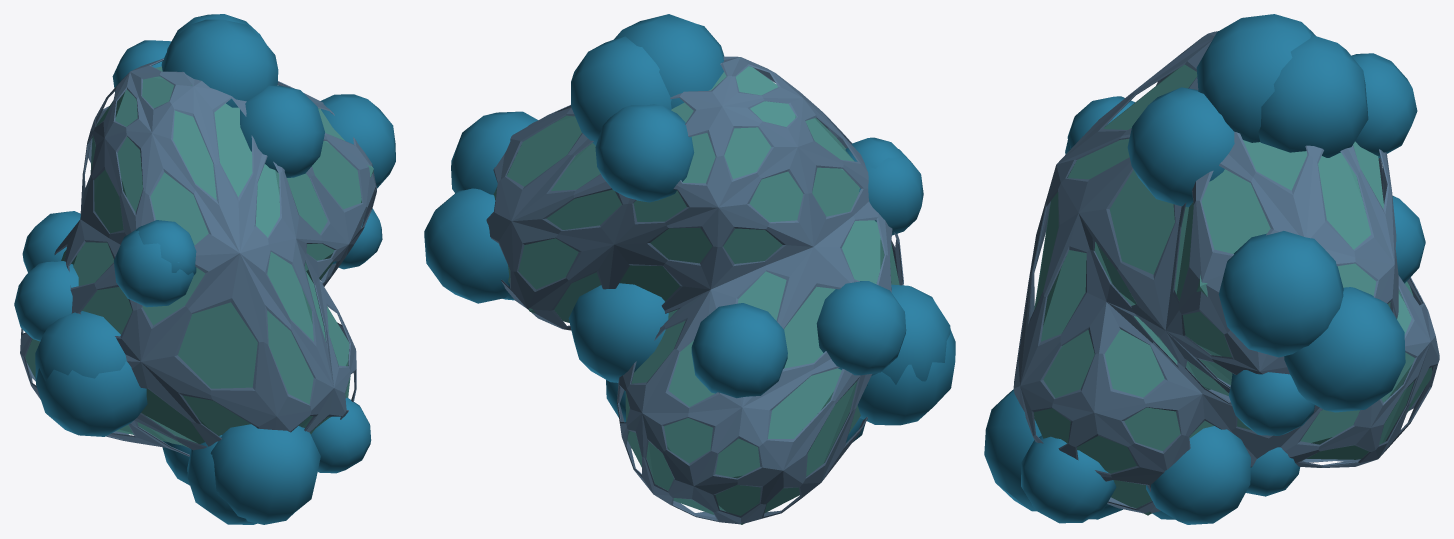
File: glueBush13.fbx
The picture shows the model from 3 angles, left to right: view 1: azimuth 30°, elevation 25°; view 2: azimuth 150°, elevation 25°; view 3: azimuth 270°, elevation 25°; orthographic projection. The views are drawn at different scales.
Visible parts, largest first — view 1: Mball.003; view 2: Mball.003; view 3: Mball.003.
Boxes of the visible parts, <box> form: Mball.003: <box>14,14,395,524</box>; Mball.003: <box>424,14,955,524</box>; Mball.003: <box>984,14,1439,524</box>.
Size of the model in its own units: 273 by 287 by 228.
